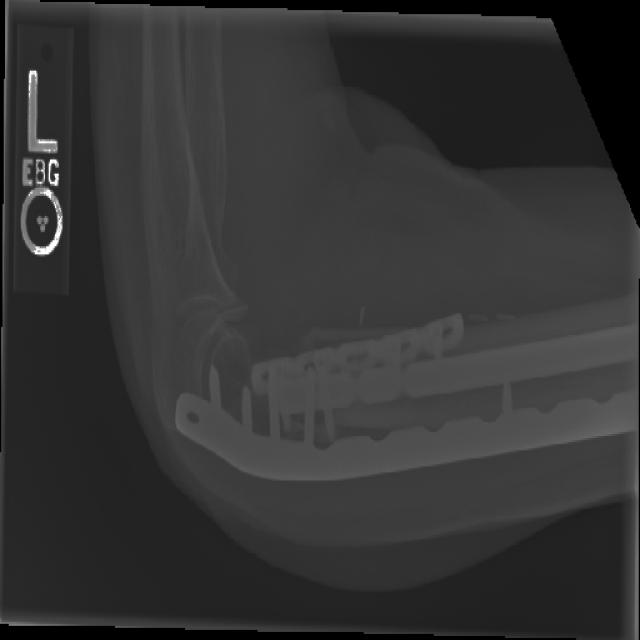elbow positive: (185, 262, 276, 353)
